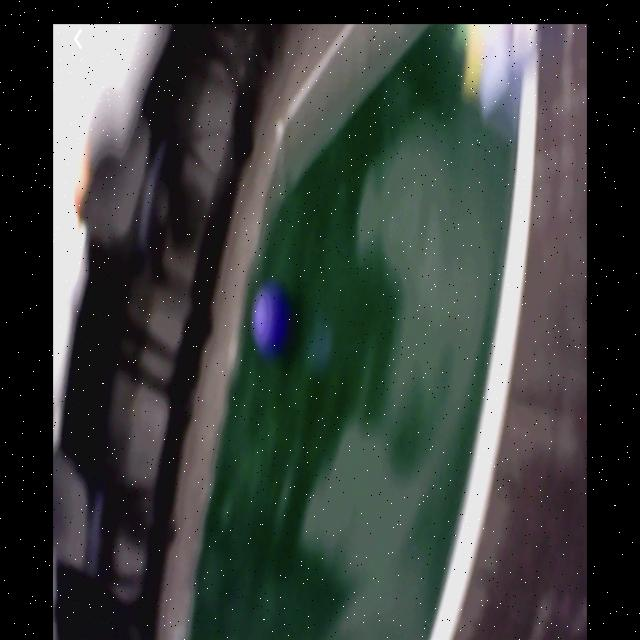ball: (254, 287, 301, 357)
